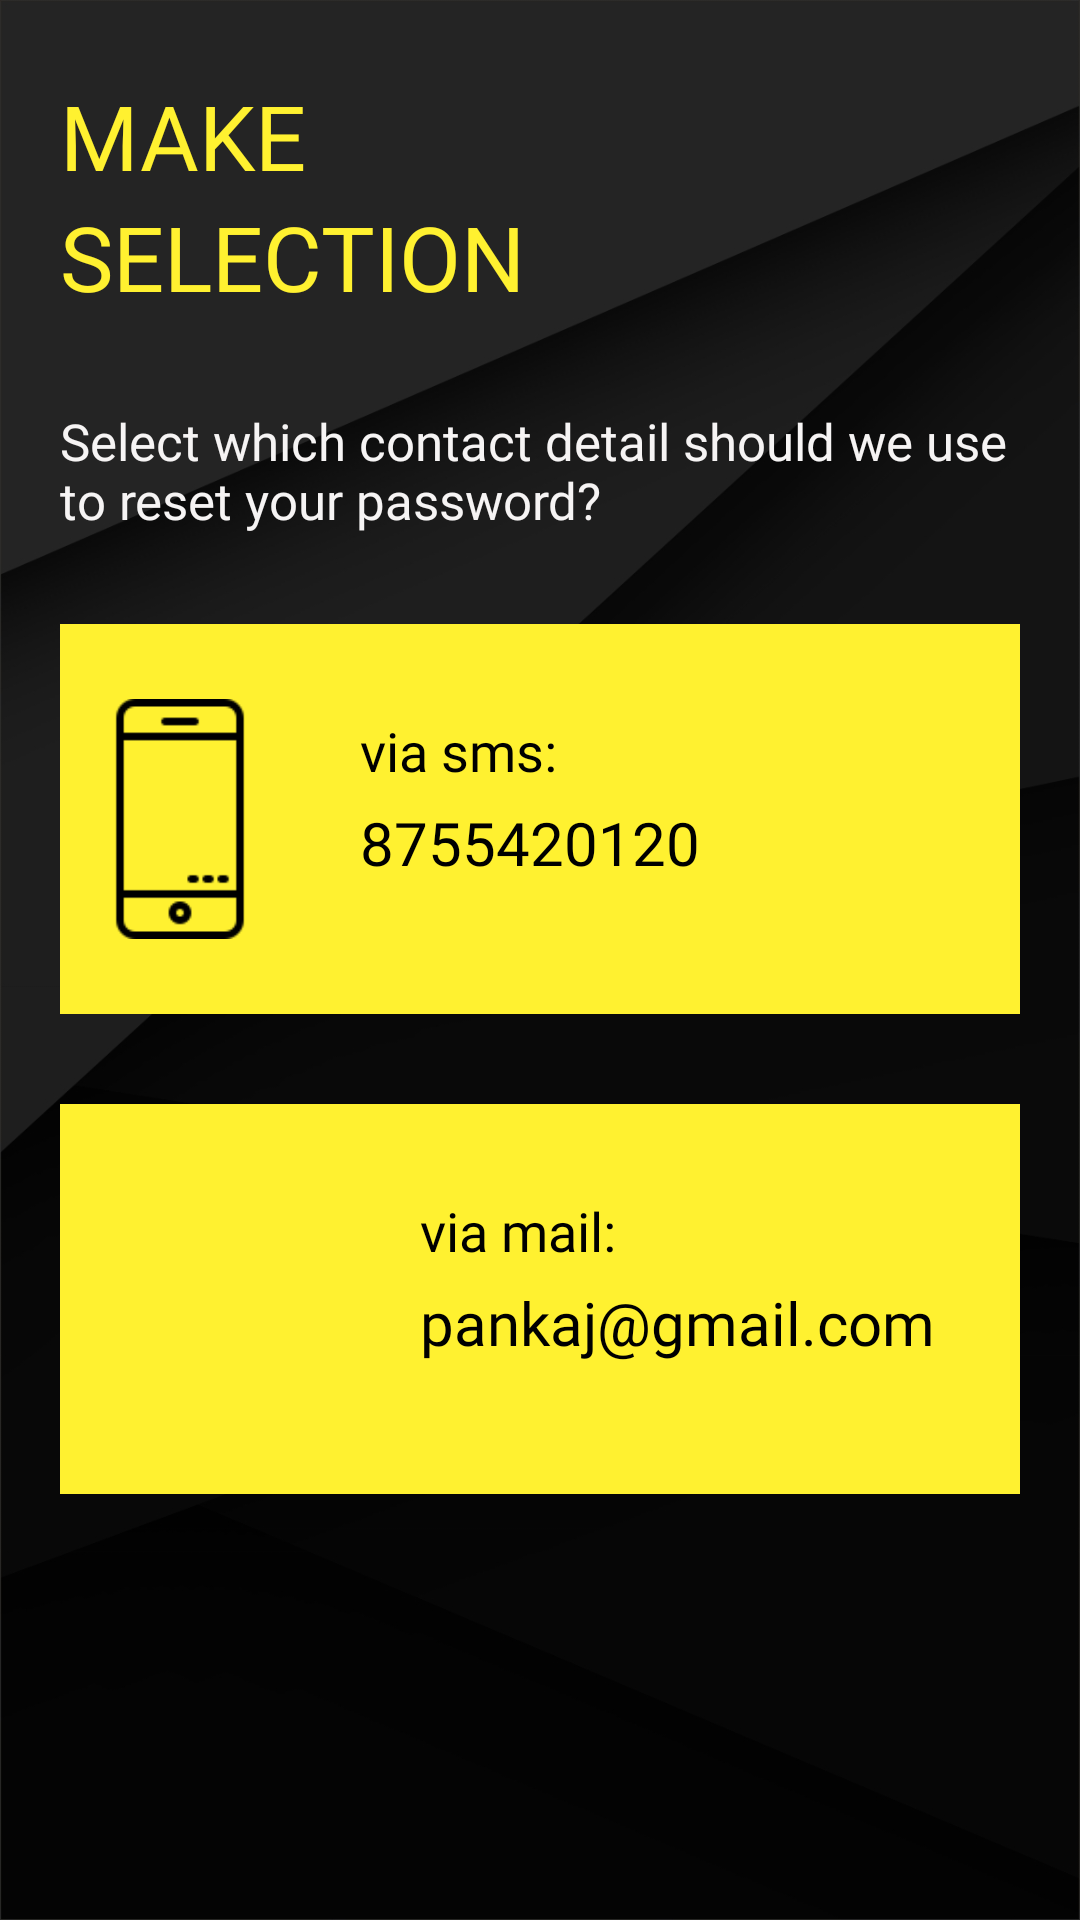

Screen size 1080*1920. Icon name, then its box in pixels as bbox=[x1, y1, x2, y2]:
smartphone: bbox=[115, 699, 245, 939]
